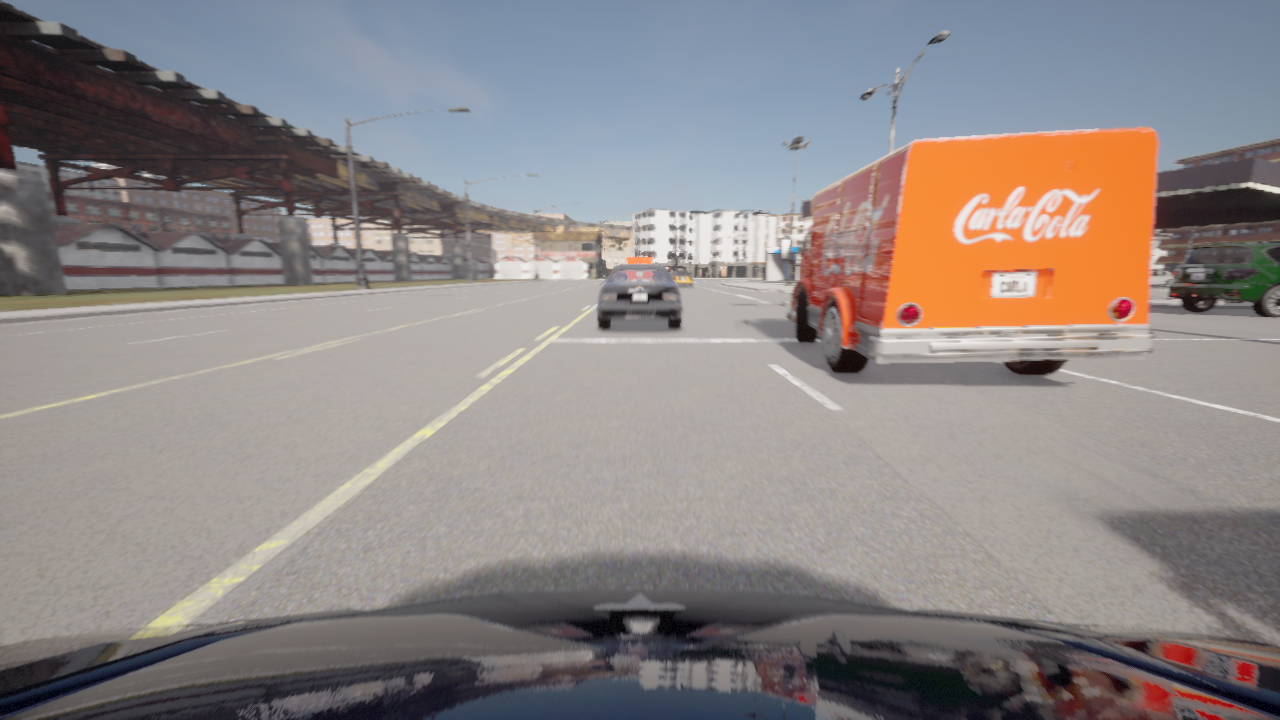cyclist: (0, 588, 1279, 719), (780, 127, 1158, 374), (1167, 242, 1279, 317), (598, 265, 681, 327), (671, 269, 692, 287), (1151, 269, 1172, 286), (627, 258, 652, 264)
